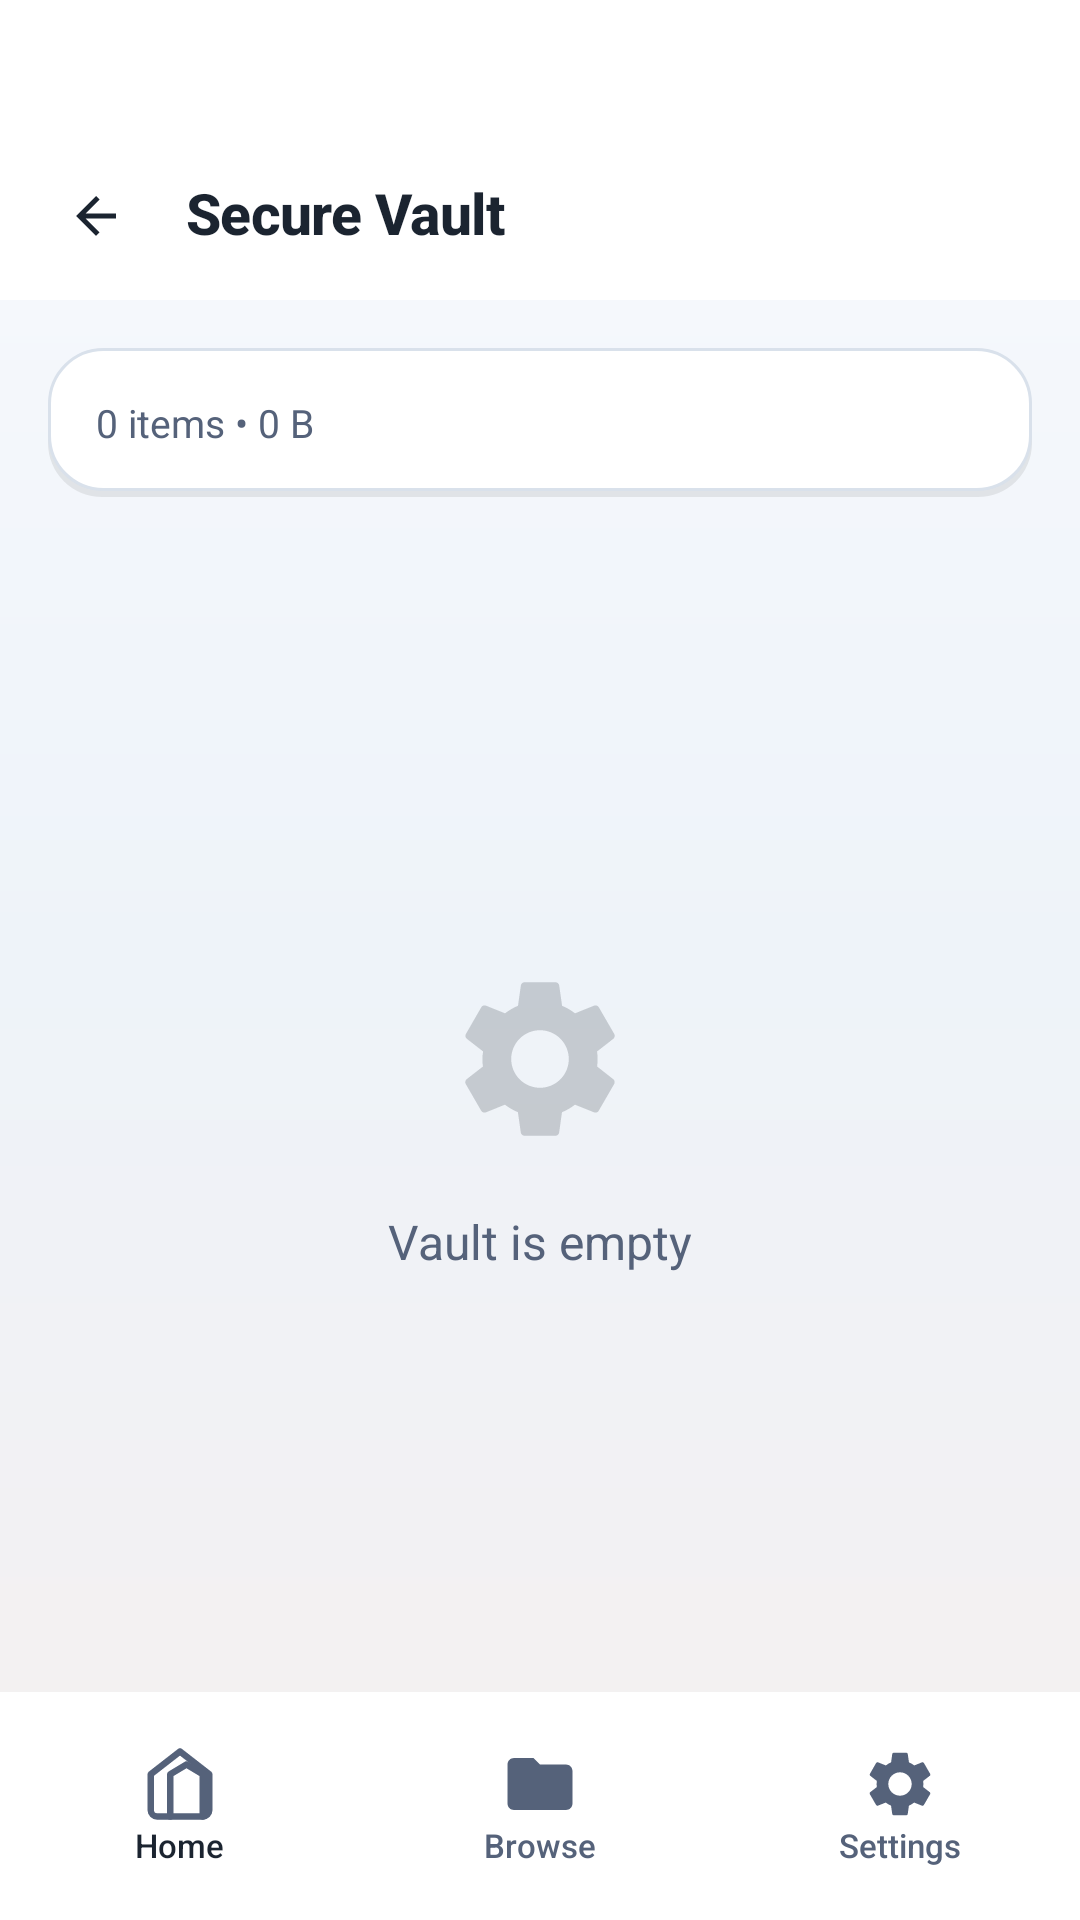

Locate icon controls on the screen. Image size 1080 × 1920, boxes as [x1,y1,x2,y2].
arrow back: [76,196,116,236]
folder: [507,1758,573,1810]
